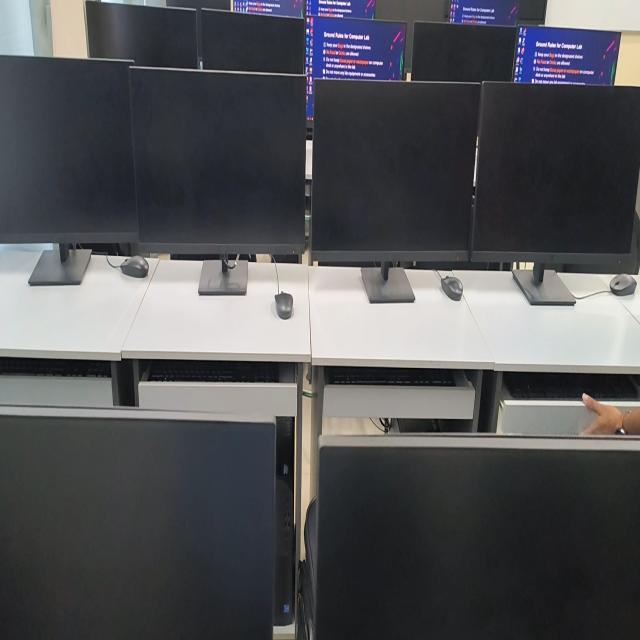Chair: (298, 497, 318, 639)
Cpu: (274, 417, 295, 625)
Digital board: (518, 0, 547, 24)
Keyboard: (502, 372, 640, 400), (147, 360, 279, 383), (324, 367, 456, 386), (0, 357, 111, 376)
Monitor: (315, 436, 640, 639), (0, 407, 275, 639), (130, 68, 306, 295), (312, 80, 480, 303), (472, 82, 640, 305), (0, 56, 139, 285), (85, 0, 198, 68), (201, 9, 305, 73), (411, 21, 518, 81), (306, 17, 406, 80), (514, 27, 621, 85), (376, 0, 449, 71), (166, 0, 230, 55), (449, 0, 519, 26), (231, 0, 305, 17), (306, 0, 375, 18)
Mouse: (120, 255, 149, 278), (609, 274, 637, 296), (441, 276, 463, 300), (275, 292, 293, 319)
